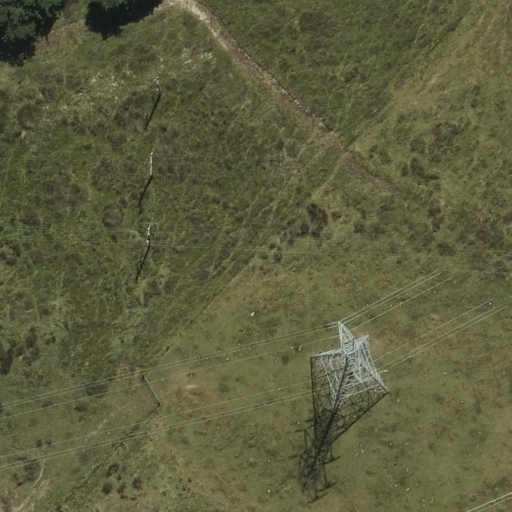DT: (142, 149, 159, 179), (148, 72, 165, 95), (142, 222, 156, 249)
TT: (307, 316, 395, 415)
